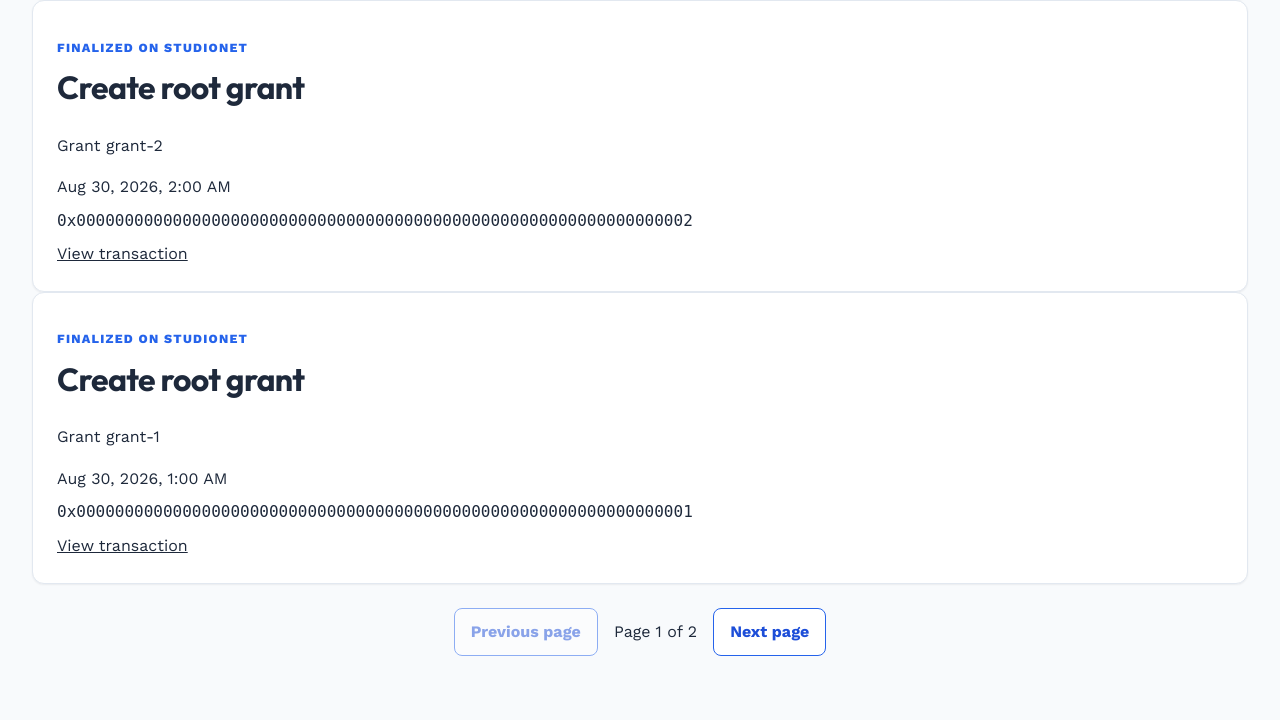
it: ActivityPage › paginates all retrieved entries without losing older history
(page scrolled)
Expected: the text "Grant grant-0" is not shown
Click the button "Next page": (770, 632) [713, 608, 826, 656]
(page scrolled)
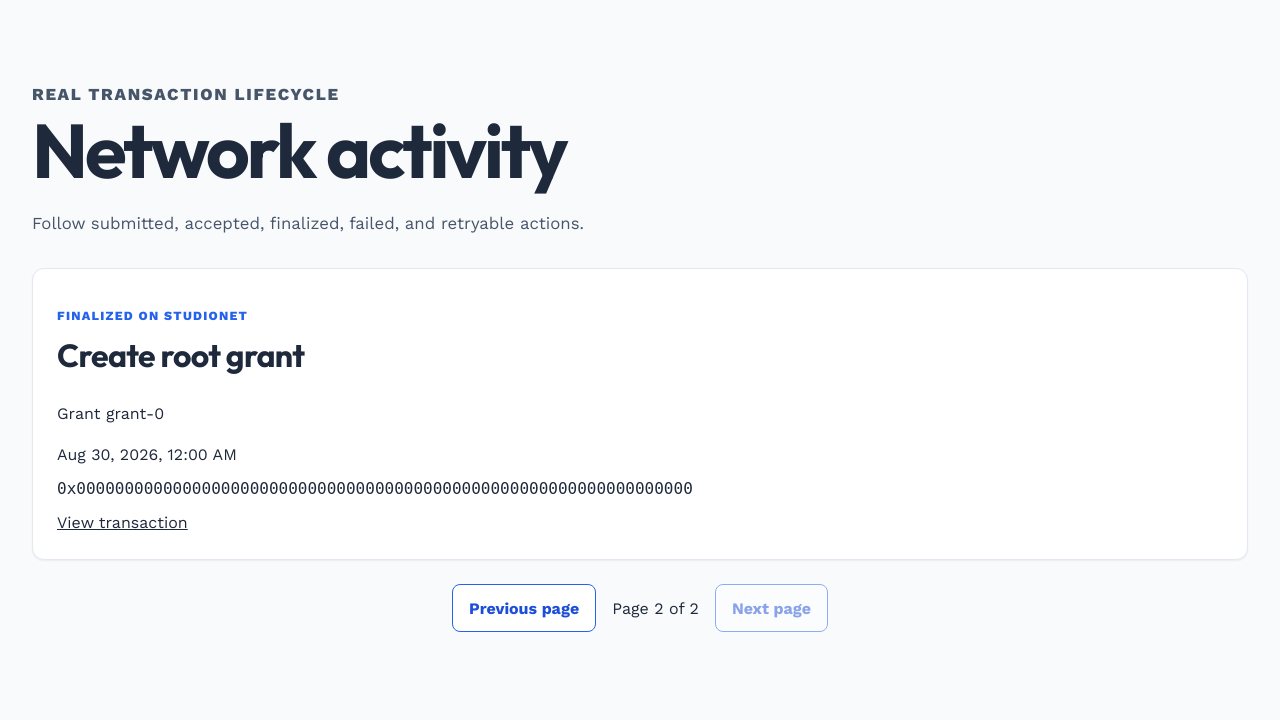
Expected: the text "Grant grant-0" is shown, [57, 404, 164, 423]
